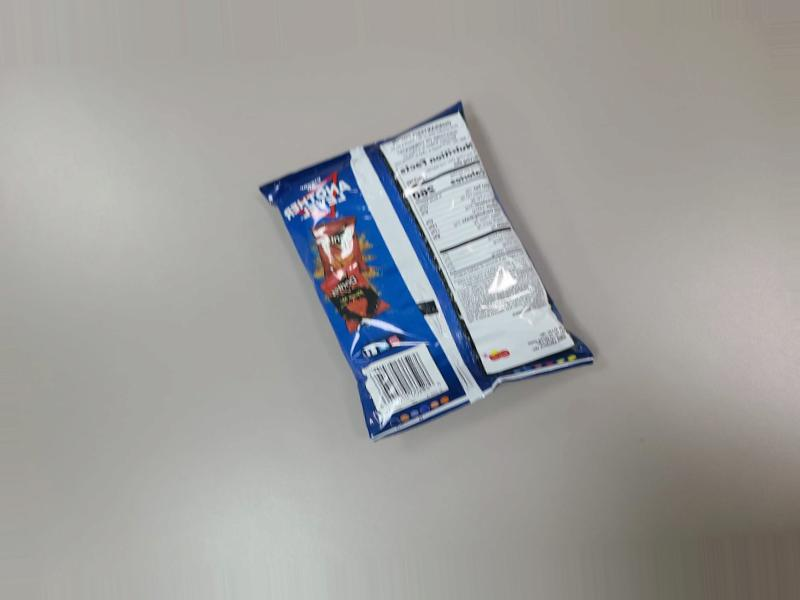doritos: (282, 96, 592, 466)
